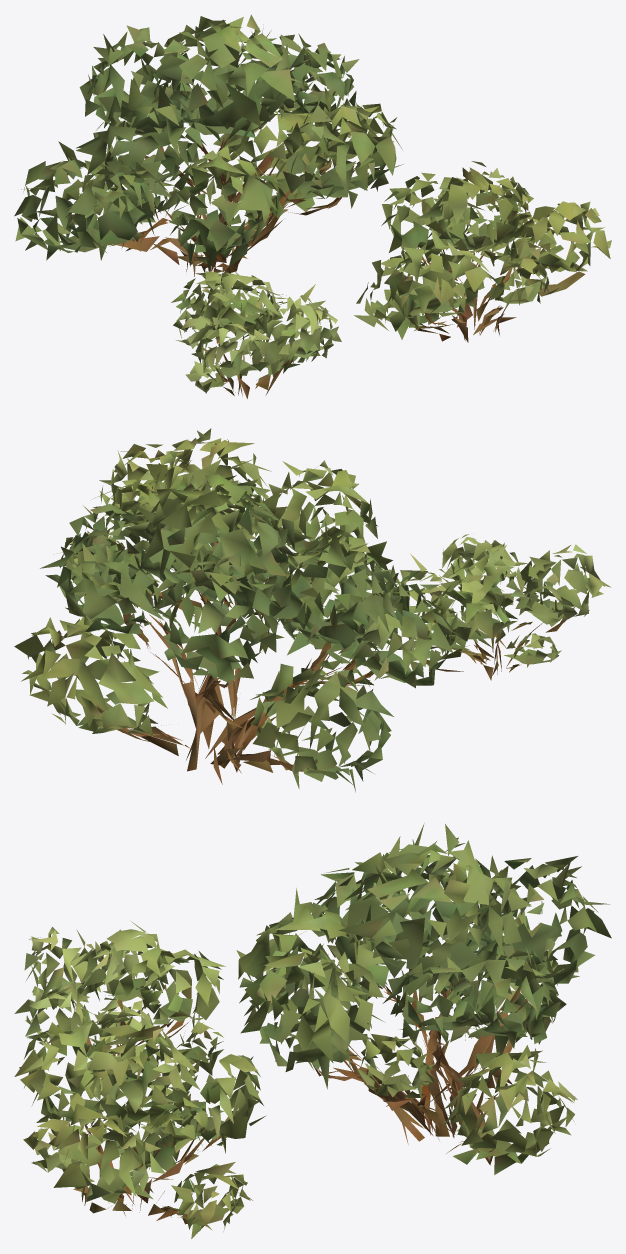
File: shrub-2.glb
3 renders of one model, top to bottom at view 1: azimuth 30°, elevation 25°; view 2: azimuth 150°, elevation 25°; view 3: azimuth 270°, elevation 25°, orthographic. The views are drawn at different scales.
Visible parts, largest first — view 1: shrub-2; view 2: shrub-2; view 3: shrub-2.
Part boxes in pixels (x1,y1,x2,y2): shrub-2: [14, 14, 611, 398]; shrub-2: [14, 428, 611, 792]; shrub-2: [14, 823, 611, 1238].
Bounding box in the file's own units: 0.9969 × 0.5728 × 0.9985.
1 material, 1 textured.
